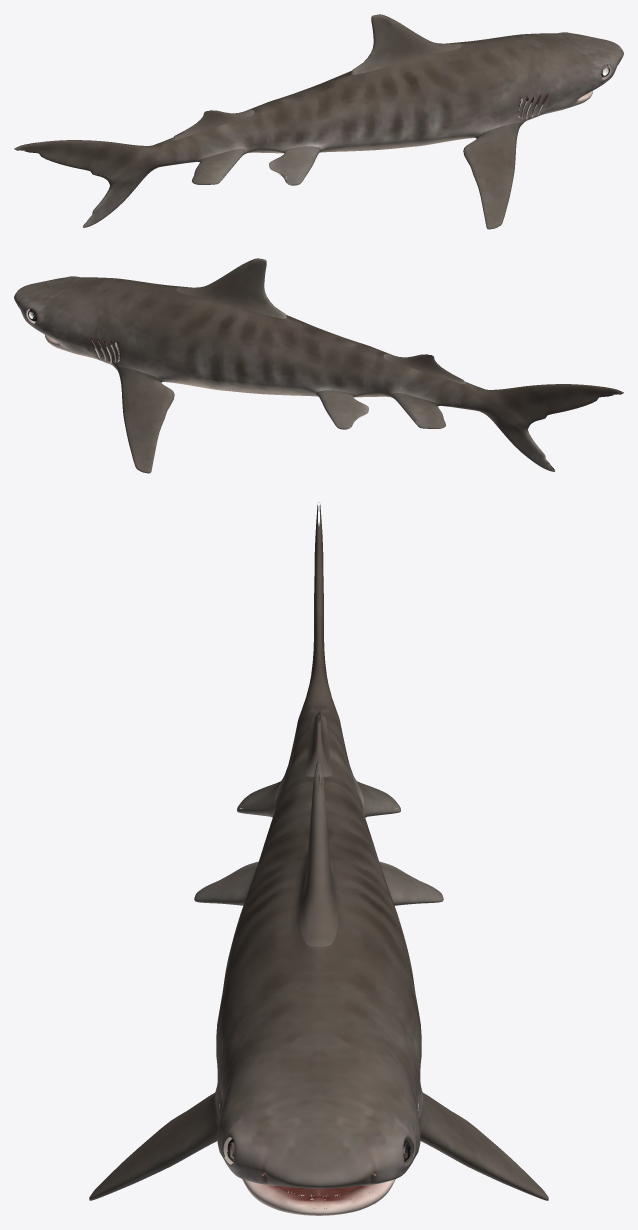
Rendered from tigershark.glb.
The picture shows the model from 3 angles, top to bottom: view 1: azimuth 30°, elevation 25°; view 2: azimuth 150°, elevation 25°; view 3: azimuth 270°, elevation 25°; orthographic projection. The views are drawn at different scales.
Visible parts, largest first — view 1: Object_12.001; view 2: Object_12.001; view 3: Object_12.001.
Boxes of the visible parts, x1=… form: Object_12.001: x1=14, y1=14, x2=623, y2=229; Object_12.001: x1=14, y1=258, x2=623, y2=473; Object_12.001: x1=89, y1=502, x2=548, y2=1215.
Size of the model in its own units: 0.9993 by 0.2951 by 0.3287.
Materials: 3 (1 with a texture image).
